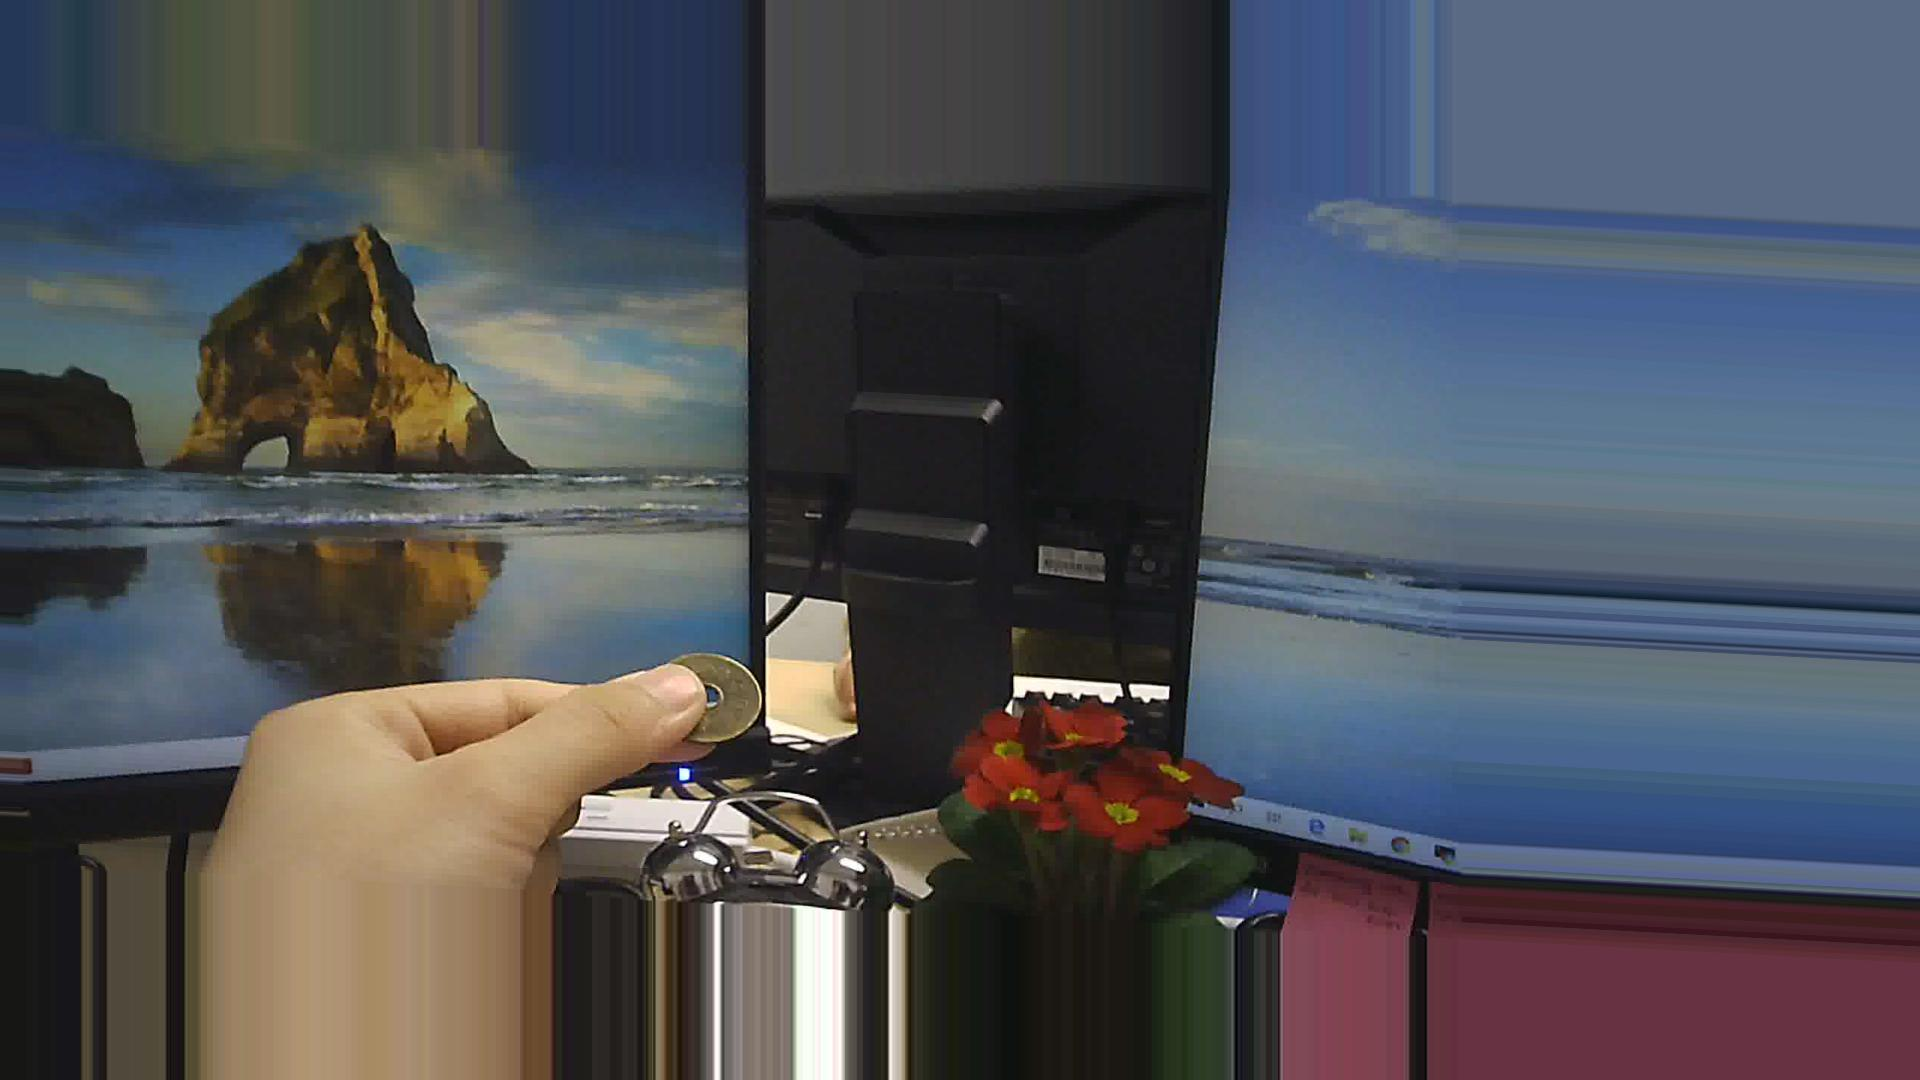5 Yen: (653, 637, 769, 752)
